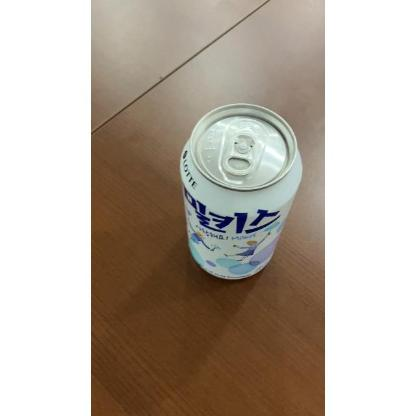Can: (178, 101, 304, 281)
